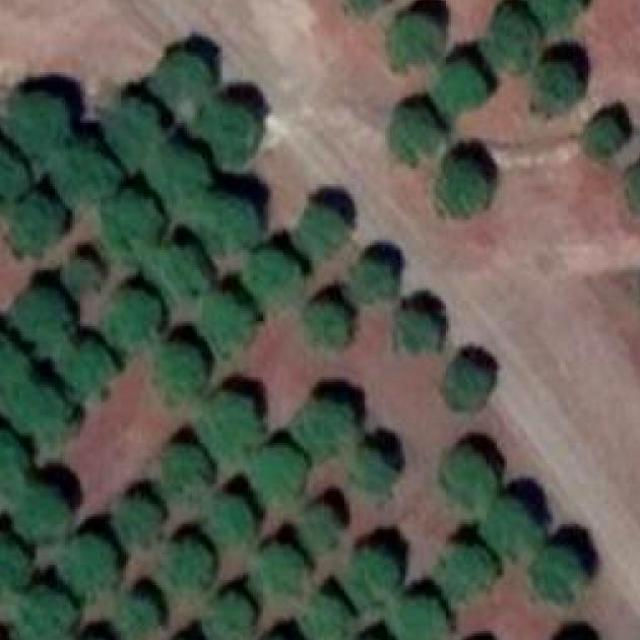Tree: (204, 102, 265, 162), (106, 286, 162, 350), (382, 106, 441, 166), (57, 146, 113, 208), (13, 90, 67, 154), (487, 6, 538, 72), (443, 446, 494, 510), (153, 146, 210, 202), (392, 14, 451, 68), (300, 399, 354, 458), (59, 338, 113, 397), (204, 189, 255, 250), (431, 158, 482, 218), (153, 48, 204, 108), (14, 290, 65, 350), (106, 192, 156, 253), (16, 487, 75, 538), (250, 544, 309, 594), (158, 343, 208, 402), (24, 384, 74, 443), (440, 544, 494, 598), (201, 397, 255, 451), (532, 548, 584, 604), (250, 248, 301, 304), (255, 443, 306, 499), (65, 538, 116, 594), (162, 443, 212, 499), (396, 592, 454, 640), (434, 60, 488, 111), (532, 62, 581, 118), (352, 550, 401, 606), (158, 242, 208, 296), (204, 294, 253, 349), (19, 588, 70, 640), (162, 538, 210, 592), (494, 493, 537, 552), (111, 100, 156, 156), (11, 194, 55, 250), (349, 260, 398, 309), (300, 207, 350, 253), (207, 595, 256, 640), (306, 595, 354, 640), (303, 296, 346, 346), (0, 427, 30, 491), (354, 446, 397, 490), (298, 509, 341, 553), (451, 354, 487, 406), (214, 497, 255, 542), (397, 311, 436, 356), (0, 534, 25, 600), (121, 497, 161, 537), (121, 598, 159, 640), (65, 255, 101, 296), (590, 116, 626, 156), (0, 140, 18, 209), (522, 0, 578, 21), (0, 336, 20, 392), (621, 161, 640, 212), (343, 0, 387, 11)
